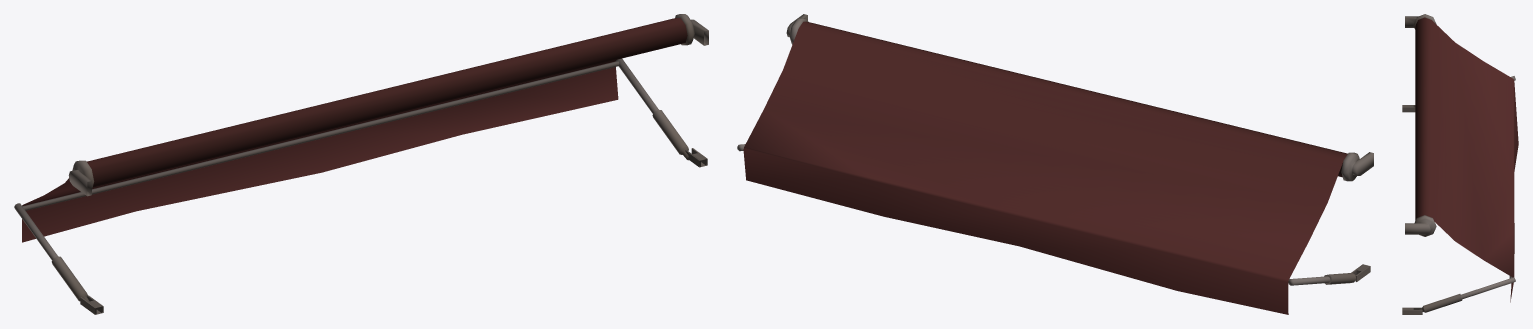
The model's file is awning.dae.
The picture shows the model from 3 angles, left to right: view 1: azimuth 30°, elevation 25°; view 2: azimuth 150°, elevation 25°; view 3: azimuth 270°, elevation 25°; orthographic projection. The views are drawn at different scales.
Parts seen in each view (by area): view 1: awning_a40; view 2: awning_a40; view 3: awning_a40.
Part boxes in pixels (x1,y1,x2,y2): awning_a40: [14, 14, 708, 314]; awning_a40: [737, 14, 1373, 314]; awning_a40: [1402, 14, 1518, 314].
Size of the model in its own units: 3.57 by 0.8429 by 0.7813.
